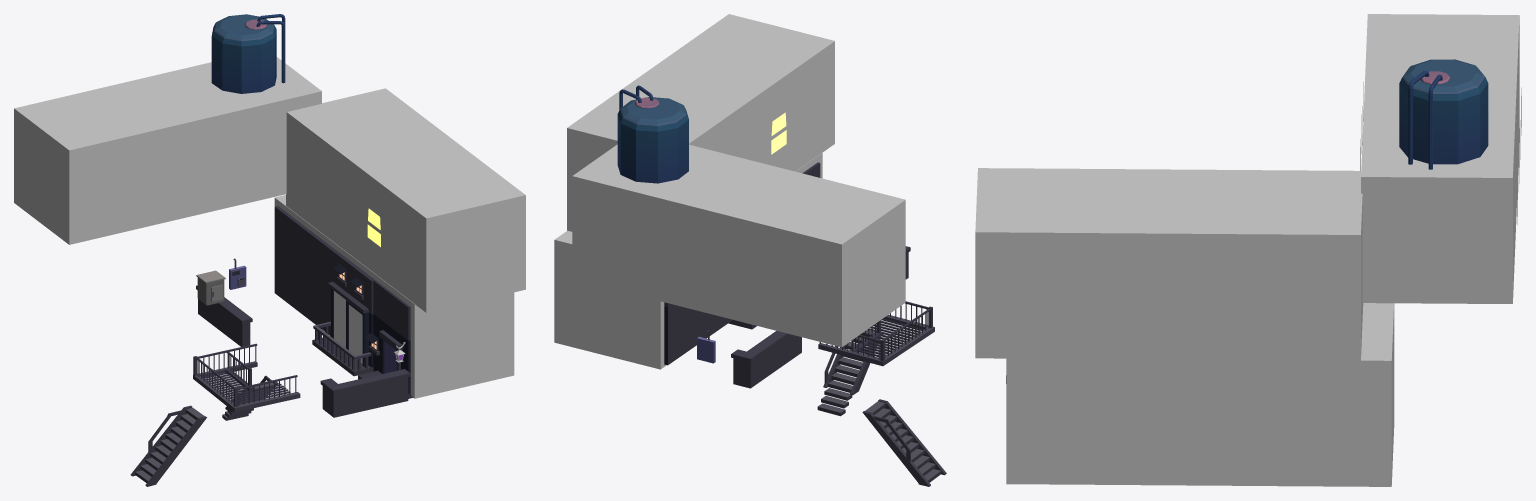
File: DBF2Home201.fbx
The picture shows the model from 3 angles, left to right: view 1: azimuth 30°, elevation 25°; view 2: azimuth 150°, elevation 25°; view 3: azimuth 270°, elevation 25°; orthographic projection. The views are drawn at different scales.
Visible parts, largest first — view 1: Crates.095, Crates.058, HomeFacade.004, Crates.059, Fence.003, StairSides.031, Stair.004, BalconyBottom.026, BalconyBottom.027, MORP Transformer Cube.003, Windows.112, BalconyRailing.112; view 2: Crates.095, Crates.058, Crates.059, HomeFacade.004, Fence.003, Stair.003, StairSides.031, Stair.004, BalconyBottom.026, BalconyBottom.027, StairSides.030, BalconyRailing.107 (+1 smaller); view 3: Crates.058, Crates.059, Crates.095.
Boxes of the visible parts, bbox=[...] form: Crates.095: bbox=[14, 14, 321, 244]; Crates.058: bbox=[286, 88, 525, 312]; HomeFacade.004: bbox=[274, 206, 412, 398]; Crates.059: bbox=[274, 195, 514, 398]; Fence.003: bbox=[196, 285, 410, 417]; StairSides.031: bbox=[130, 405, 206, 486]; Stair.004: bbox=[135, 407, 204, 482]; BalconyBottom.026: bbox=[193, 361, 300, 412]; BalconyBottom.027: bbox=[202, 372, 290, 404]; MORP Transformer Cube.003: bbox=[196, 270, 225, 305]; Windows.112: bbox=[333, 264, 379, 355]; BalconyRailing.112: bbox=[233, 375, 297, 407]; Crates.095: bbox=[572, 85, 905, 347]; Crates.058: bbox=[567, 14, 834, 231]; Crates.059: bbox=[554, 152, 822, 369]; HomeFacade.004: bbox=[664, 162, 820, 365]; Fence.003: bbox=[731, 246, 910, 388]; Stair.003: bbox=[817, 329, 876, 416]; StairSides.031: bbox=[862, 399, 946, 486]; Stair.004: bbox=[865, 401, 941, 482]; BalconyBottom.026: bbox=[818, 314, 934, 366]; BalconyBottom.027: bbox=[857, 319, 923, 358]; StairSides.030: bbox=[823, 336, 881, 394]; BalconyRailing.107: bbox=[883, 309, 930, 357]; Crates.058: bbox=[975, 168, 1363, 361]; Crates.059: bbox=[1006, 303, 1394, 486]; Crates.095: bbox=[1360, 14, 1521, 303].
Bounding box in the file's own units: 3065 × 3352 × 3448.
